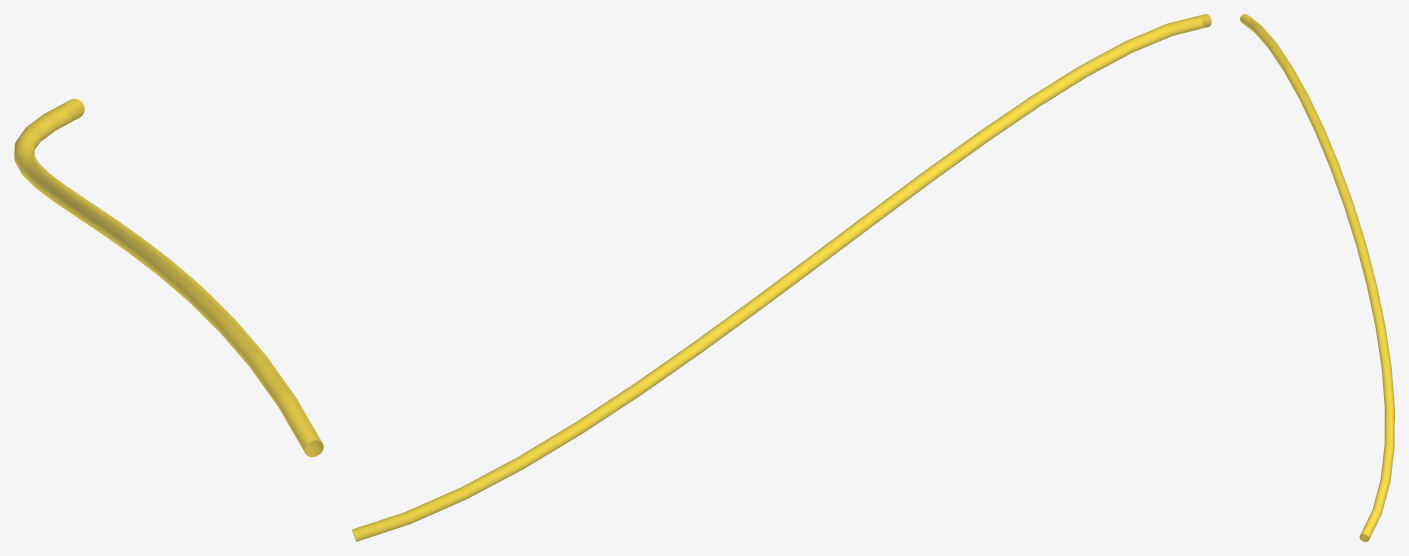
Rendered from Event_17758602_track_102.fbx.
3 views of the same model, side by side, from view 1: azimuth 90°, elevation 25°; view 2: azimuth 210°, elevation 25°; view 3: azimuth 270°, elevation 25° (orthographic). The views are drawn at different scales.
Parts seen in each view (by area): view 1: Model; view 2: Model; view 3: Model.
Boxes of the visible parts, x1,y1,x2,y2 form: Model: [14, 98, 323, 457]; Model: [352, 14, 1211, 541]; Model: [1240, 14, 1394, 541].
Bounding box in the file's own units: 3.23 × 0.8345 × 0.6108.
